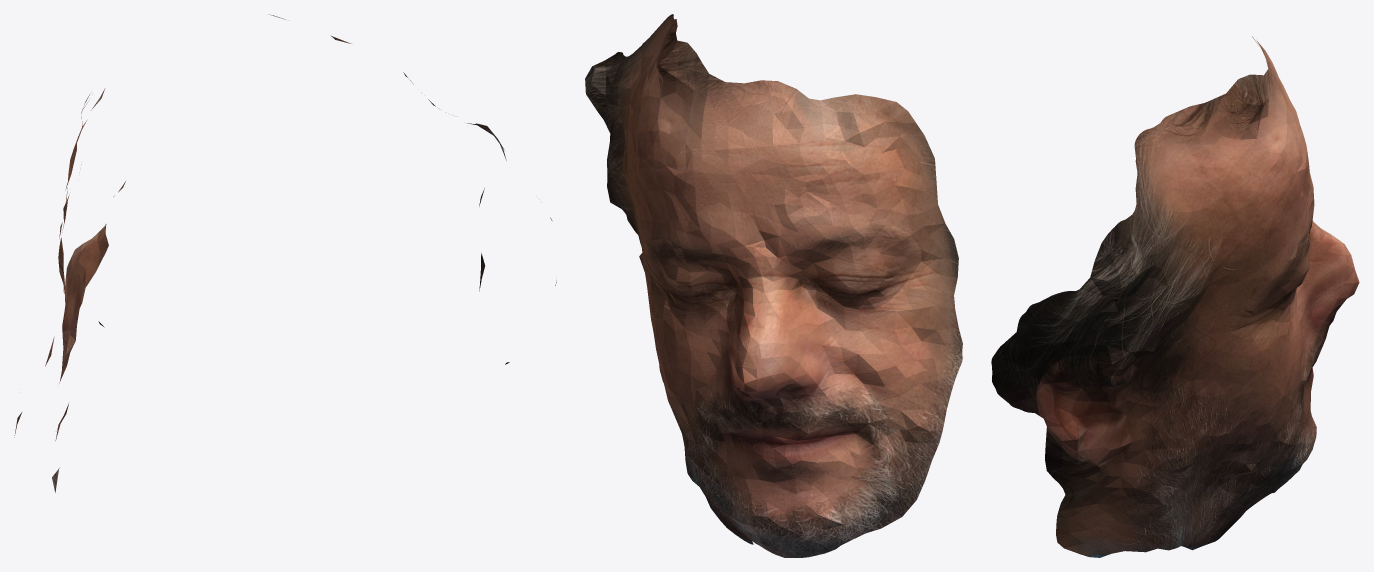
Rendered from Busto_2.glb.
The picture shows the model from 3 angles, left to right: view 1: azimuth 30°, elevation 25°; view 2: azimuth 150°, elevation 25°; view 3: azimuth 270°, elevation 25°; orthographic projection. The views are drawn at different scales.
Parts seen in each view (by area): view 1: Mesh_0.001; view 2: Mesh_0.001; view 3: Mesh_0.001.
Boxes of the visible parts, <box> form: Mesh_0.001: <box>14,14,556,492</box>; Mesh_0.001: <box>585,14,962,557</box>; Mesh_0.001: <box>991,36,1359,557</box>.
Bounding box in the file's own units: 173 × 196 × 136.
1 material, 1 textured.
